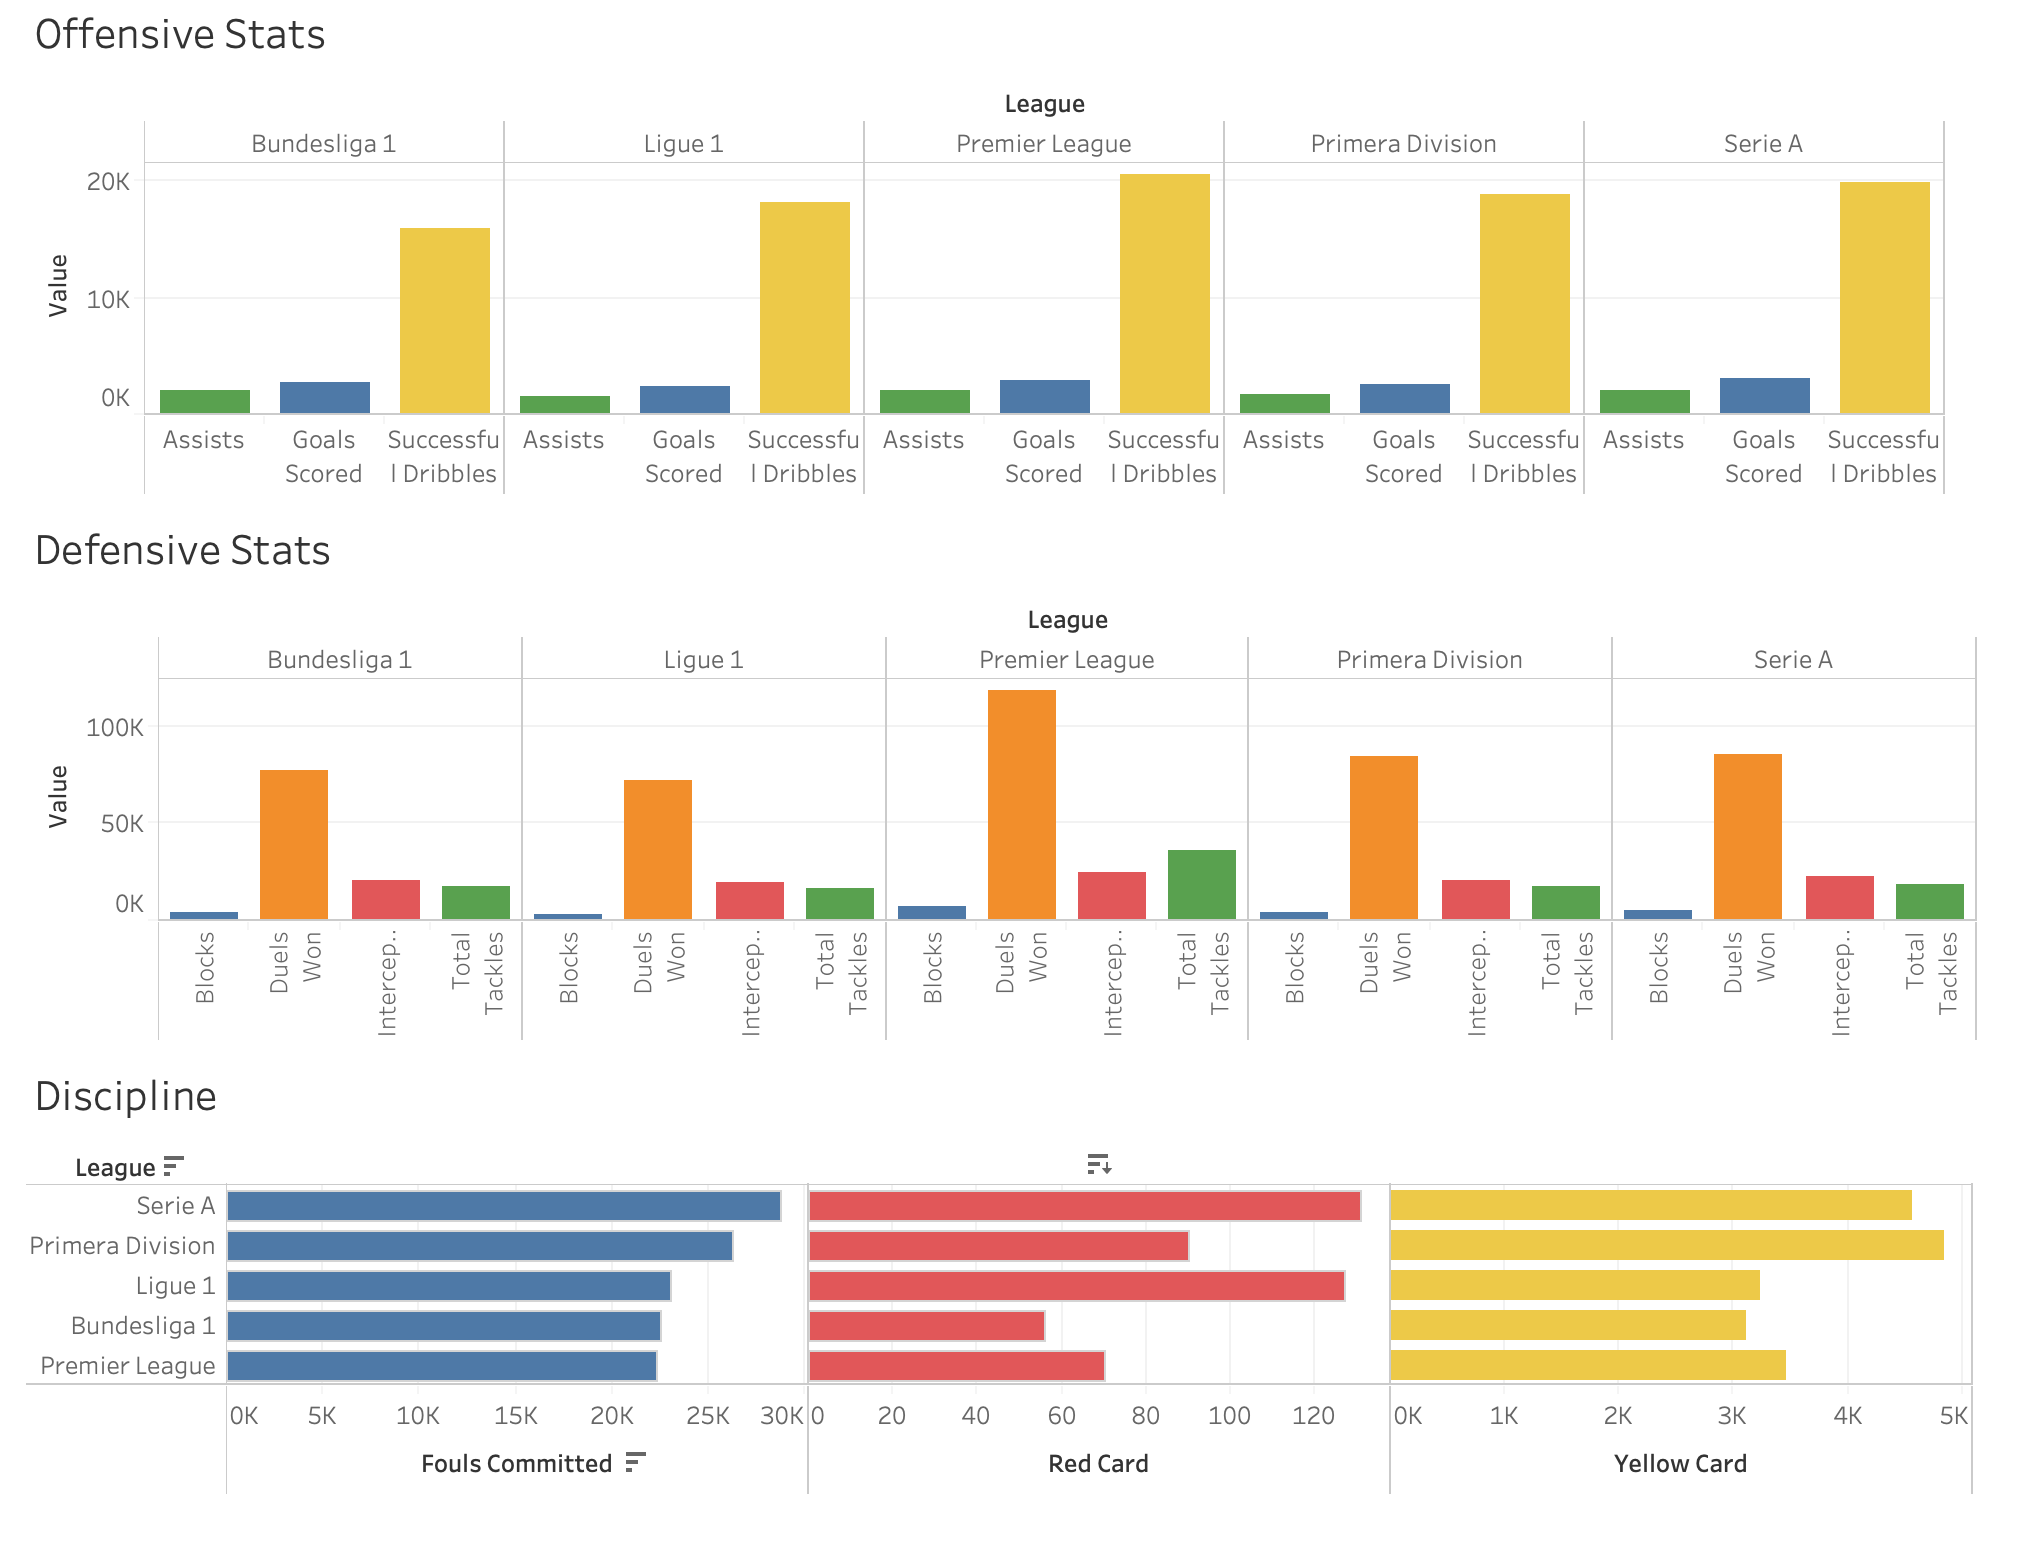

Layout of this report page (visuals, bound fields, positions):
{"tool":"tableau","page":{"name":"Dashboard 1","canvas":[1000,800],"ordinal":0},"visuals":[{"type":"worksheet","box":[0,0,1000,800]},{"type":"worksheet","param":"horz","box":[8,8,984,784]},{"type":"worksheet","box":[8,8,984,784]},{"type":"worksheet","title":"Offensive Stats","mark":"Automatic","cols":["league"],"box":[8,8,984,258]},{"type":"worksheet","title":"Defensive Stats","mark":"Automatic","cols":["league"],"box":[8,266,984,273]},{"type":"worksheet","title":"Discipline","mark":"Automatic","rows":["league"],"cols":["fouls_committed","red_card","yellow_card"],"box":[8,539,984,253]}]}

Visuals, with their boxes on the page's 1000x800 design canvas (x1, y1, x2, y2). These are canvas units, not pixel positions in the 2042x1542 screenshot, which may show the page scaled, cropped or inside an application window:
worksheet: box(0, 0, 1000, 800)
worksheet: box(8, 8, 992, 792)
worksheet: box(8, 8, 992, 792)
"Offensive Stats" worksheet: box(8, 8, 992, 266)
"Defensive Stats" worksheet: box(8, 266, 992, 539)
"Discipline" worksheet: box(8, 539, 992, 792)
